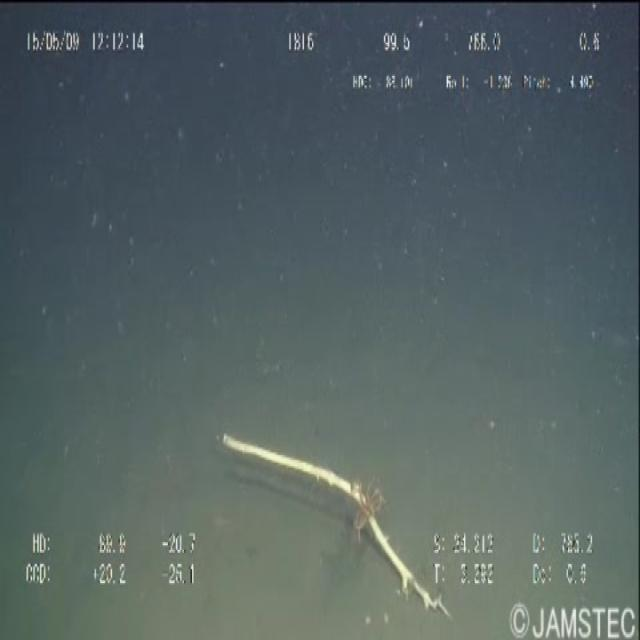Wood: (224, 414, 461, 640)
